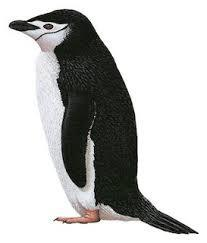chinstrap: (6, 5, 194, 243)
